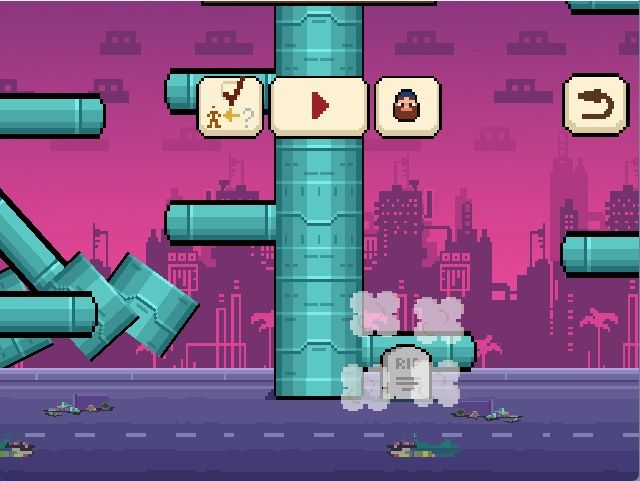left_obs: (152, 192, 293, 258)
